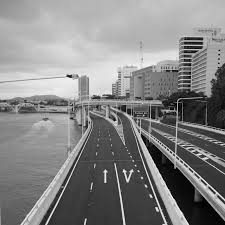strada: (45, 152, 172, 224)
